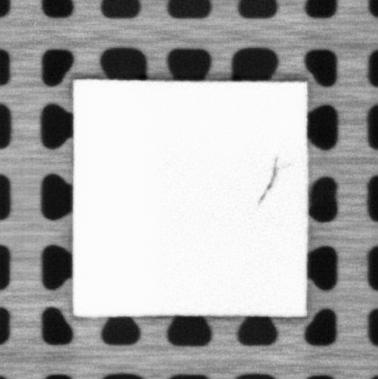DIE_INK: (256, 156, 282, 204)
